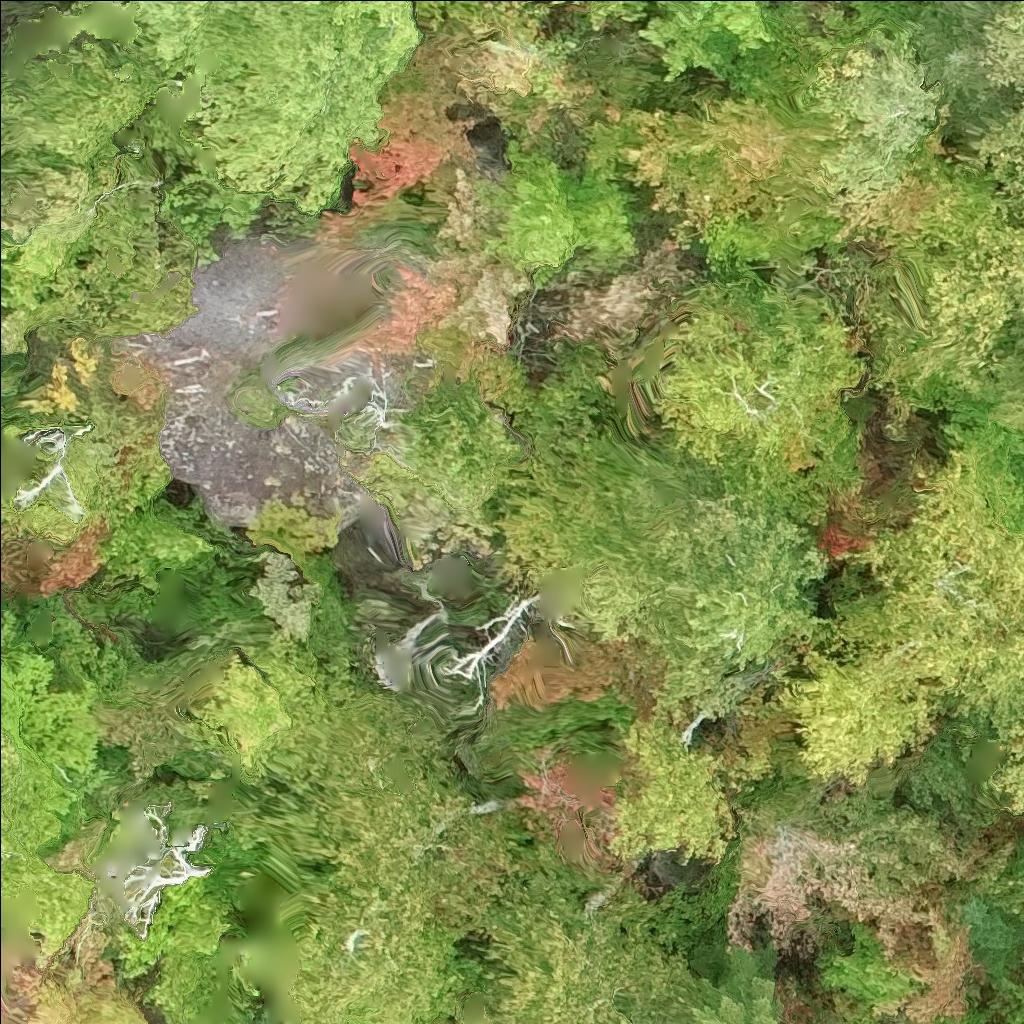crown: (767, 413, 1023, 785), (567, 491, 835, 714), (652, 267, 865, 519), (725, 776, 970, 955), (607, 692, 739, 866), (814, 884, 976, 1023), (918, 211, 1023, 389), (689, 945, 783, 1023), (966, 109, 1023, 222), (952, 897, 1023, 982), (981, 308, 1023, 432), (969, 843, 1023, 924), (975, 0, 1023, 89), (992, 725, 1023, 816)
